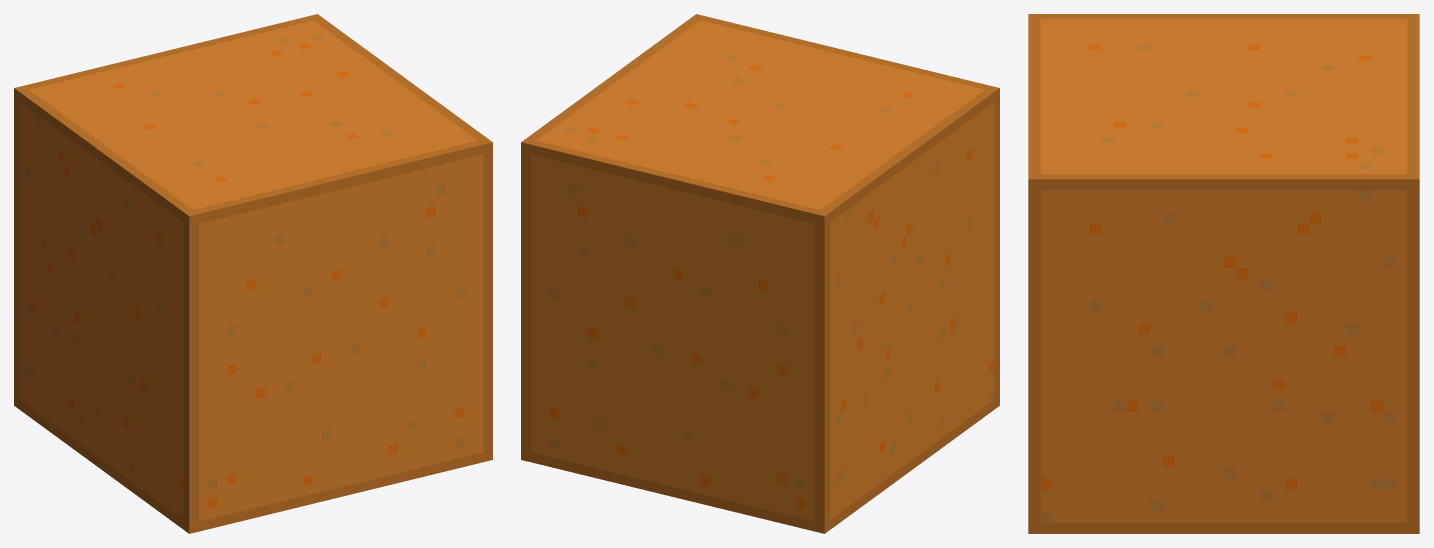
Rendered from ground.obj.
3 views of the same model, side by side, from view 1: azimuth 30°, elevation 25°; view 2: azimuth 150°, elevation 25°; view 3: azimuth 270°, elevation 25° (orthographic). The views are drawn at different scales.
Visible parts, largest first — view 1: ground; view 2: ground; view 3: ground.
Part boxes in pixels (x1,y1,x2,y2): ground: (14, 14, 492, 533); ground: (521, 14, 999, 533); ground: (1028, 14, 1419, 533).
Size of the model in its own units: 32 by 32 by 32.
Materials: 1 (1 with a texture image).
